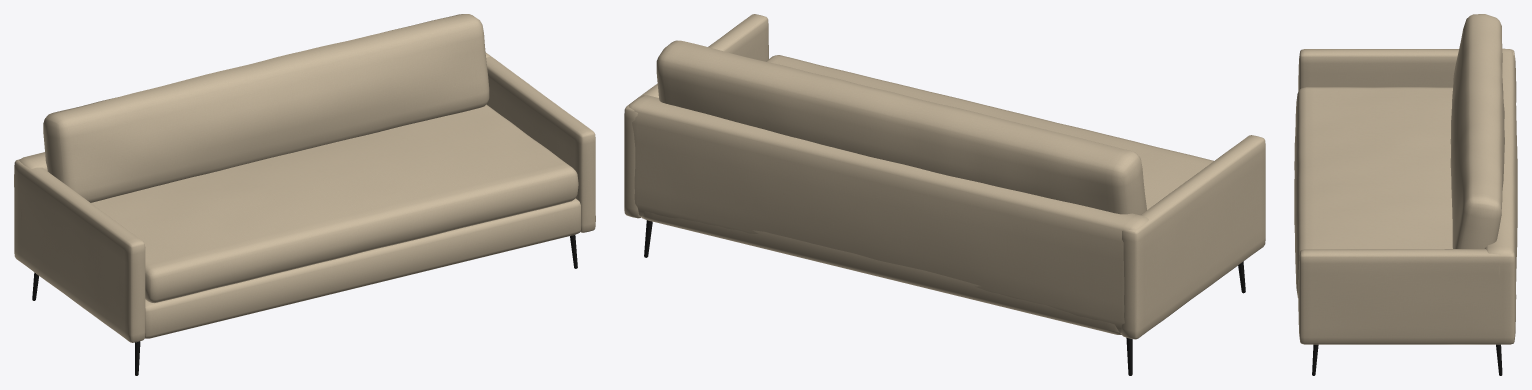
The model's file is sofa_brazo_fino_3p_arena.glb.
The picture shows the model from 3 angles, left to right: view 1: azimuth 30°, elevation 25°; view 2: azimuth 150°, elevation 25°; view 3: azimuth 270°, elevation 25°; orthographic projection. The views are drawn at different scales.
Visible parts, largest first — view 1: sofa_brazo_fino_3p_arena; view 2: sofa_brazo_fino_3p_arena; view 3: sofa_brazo_fino_3p_arena.
Part boxes in pixels (box(x1,y1,x2,y2)): sofa_brazo_fino_3p_arena: box(14, 14, 595, 375); sofa_brazo_fino_3p_arena: box(624, 14, 1265, 375); sofa_brazo_fino_3p_arena: box(1294, 14, 1517, 375).
Size of the model in its own units: 2 by 0.7863 by 0.9109.
Materials: 2 (1 with a texture image).
